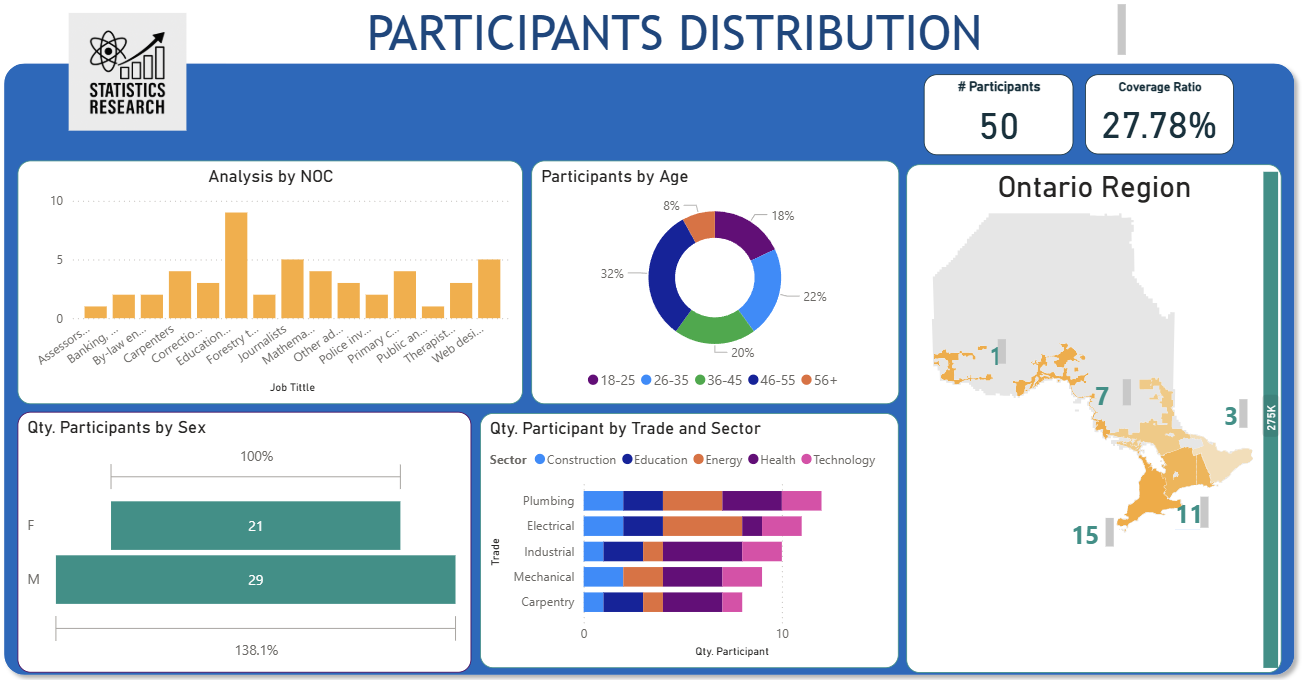

The page's visual inventory and layout, read from the dashboard file:
{"tool":"powerbi","page":{"name":"Participant Overview","canvas":[1280,720],"ordinal":0},"visuals":[{"type":"shapeMap","title":"Ontario Region","fields":{"Value":["CountNonNull(Participant (2).id_participant)"],"Category":["Region.Region"]},"box":[891.4,206.5,366.9,497.5],"z":0,"group":"g1"},{"type":"shape","box":[0,99,1280,616],"z":0},{"type":"card","title":"Coverage Ratio","fields":{"Values":["Participant.Coverage_Participants"]},"box":[1066.3,118.6,145.5,78.3],"z":1000},{"type":"textbox","title":"CO","box":[1076.5,412.1,35.5,38],"z":1000,"group":"g1"},{"type":"donutChart","title":"Participants by Age","fields":{"Series":["Participant.Age Group"],"Y":["CountNonNull(Participant.id_participant)"]},"box":[524.6,203,360,238.5],"z":2000},{"type":"textbox","title":"EO","box":[1202.4,431.7,23.2,39.2],"z":2000,"group":"g1"},{"type":"textbox","title":"SC","box":[1154.7,527.2,33,40.4],"z":3000,"group":"g1"},{"type":"barChart","fields":{"Category":["Participant (2).trade"],"Series":["Participant (2).sector"],"Y":["CountNonNull(Participant (2).id_participant)"]},"box":[474.5,450,409.6,249.5],"z":3000},{"type":"textbox","title":"NW","box":[972.5,372.8,17.1,36.8],"z":4000,"group":"g1"},{"type":"textbox","title":"SW","box":[1053.2,548.1,41.6,39.2],"z":5000,"group":"g1"},{"type":"funnel","fields":{"Category":["Participant (2).sex"],"Y":["CountNonNull(Participant (2).id_participant)"]},"box":[22,448.8,443.9,255.6],"z":5000},{"type":"clusteredColumnChart","fields":{"Y":["Participant.Workers_Forecast"]},"box":[1216.4,178.5,64,527],"z":5500,"group":"g1"},{"type":"lineClusteredColumnComboChart","title":"Analysis by NOC","fields":{"Category":["NOC_21.Class title","Outlook_N21.NOC","NOC_16.Code"],"Y":["CountNonNull(Participant.id_participant)"]},"box":[22,203,494,238.5],"z":6000},{"type":"card","title":"# Participants","fields":{"Values":["Count(Participant (2).id_participant)"]},"box":[908.7,118.4,146.4,78.9],"z":7000},{"type":"group","id":"g1","title":"Group 1","box":[891.4,178.5,389,527],"z":8000},{"type":"FlowVisual_C29F1DCC_81F5_4973_94AD_0517D44CC06A","box":[13.5,130.8,106.4,47.7],"z":9000},{"type":"image","box":[67.3,53.8,124.7,124.7],"z":10000},{"type":"textbox","box":[226.2,37.9,885.3,61.1],"z":11000}]}

Visuals, with their boxes in screenshot pixels (x1, y1, x2, y2):
"Ontario Region" shapeMap: [x1=894, y1=166, x2=1263, y2=666]
shape: [x1=0, y1=59, x2=1284, y2=677]
"Coverage Ratio" card: [x1=1070, y1=78, x2=1216, y2=157]
"CO" textbox: [x1=1080, y1=373, x2=1116, y2=411]
"Participants by Age" donutChart: [x1=526, y1=163, x2=888, y2=402]
"EO" textbox: [x1=1206, y1=392, x2=1230, y2=432]
"SC" textbox: [x1=1159, y1=488, x2=1192, y2=529]
barChart - Participant (2).trade x Participant (2).sector: [x1=476, y1=411, x2=887, y2=661]
"NW" textbox: [x1=976, y1=333, x2=993, y2=370]
"SW" textbox: [x1=1057, y1=509, x2=1098, y2=549]
funnel - Participant (2).sex x CountNonNull(Participant (2).id_participant): [x1=22, y1=410, x2=467, y2=666]
clusteredColumnChart - Participant.Workers_Forecast: [x1=1220, y1=138, x2=1285, y2=667]
"Analysis by NOC" lineClusteredColumnComboChart: [x1=22, y1=163, x2=518, y2=402]
"# Participants" card: [x1=912, y1=78, x2=1059, y2=157]
"Group 1" group: [x1=894, y1=138, x2=1285, y2=667]
FlowVisual_C29F1DCC_81F5_4973_94AD_0517D44CC06A: [x1=13, y1=90, x2=120, y2=138]
image: [x1=67, y1=13, x2=193, y2=138]
textbox: [x1=227, y1=0, x2=1115, y2=59]
